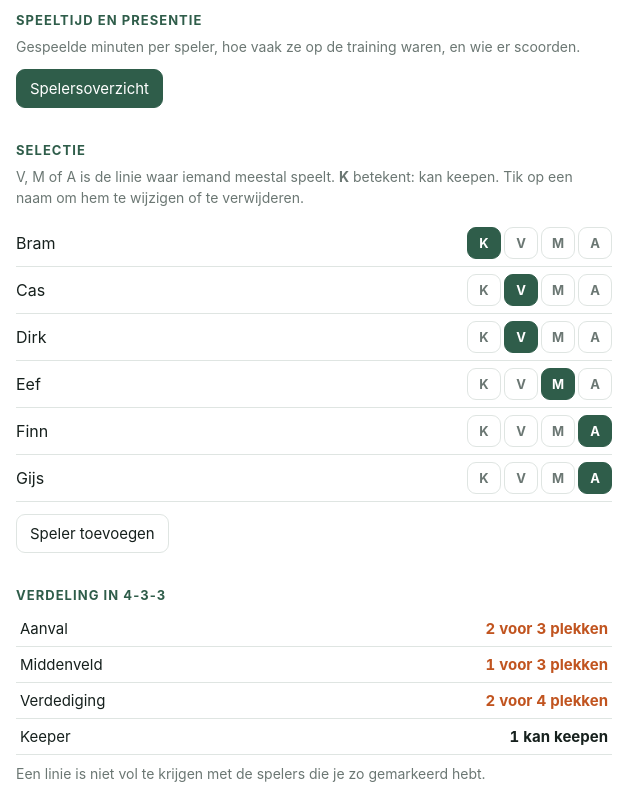
het teamscherm › hernoemt een speler
The image size is (629, 799).
Click the button "Bram".
click(36, 243)  # box [16,233,461,253]
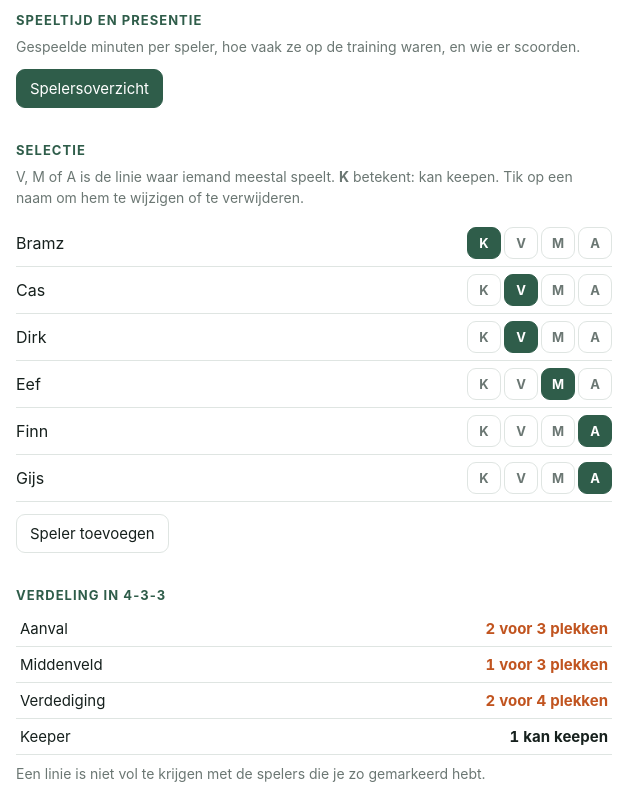
Check: the button "Bramz" is shown, box [16,233,461,253]
